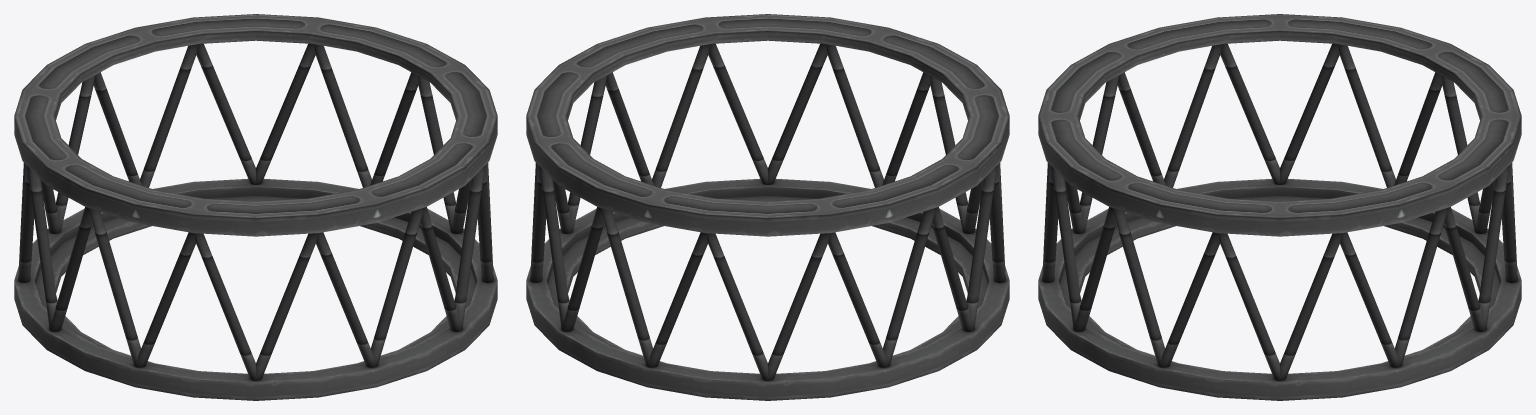
Rendered from castor_truss_decoupler_s1p2_1.obj.
The picture shows the model from 3 angles, left to right: view 1: azimuth 30°, elevation 25°; view 2: azimuth 150°, elevation 25°; view 3: azimuth 270°, elevation 25°; orthographic projection.
Visible parts, largest first — view 1: castor_truss_decoupler_s1p2_1; view 2: castor_truss_decoupler_s1p2_1; view 3: castor_truss_decoupler_s1p2_1.
Part boxes in pixels (<box>): castor_truss_decoupler_s1p2_1: <box>14,14,497,400</box>; castor_truss_decoupler_s1p2_1: <box>526,14,1009,400</box>; castor_truss_decoupler_s1p2_1: <box>1038,14,1521,400</box>.
Bounding box in the file's own units: 1.5 × 0.625 × 1.5.
